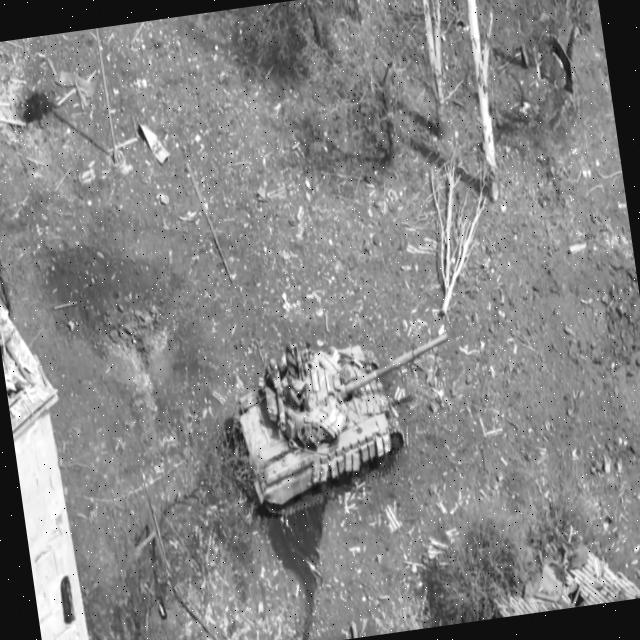MBT: (223, 316, 472, 524)
